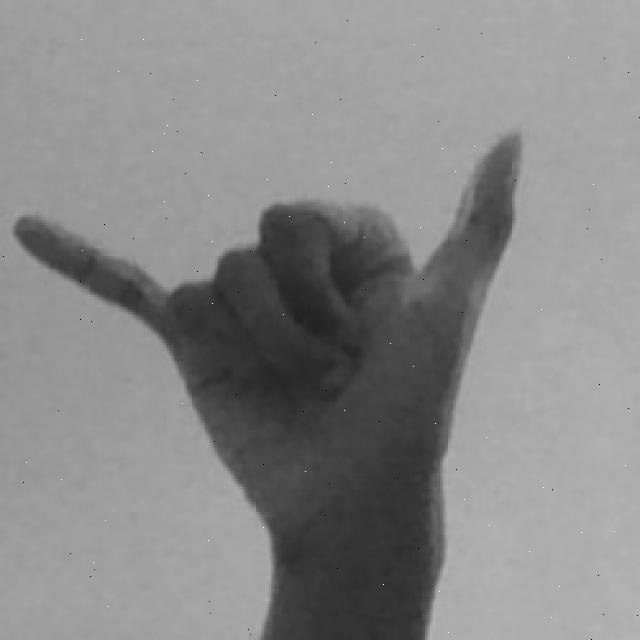Y: (19, 122, 534, 640)
